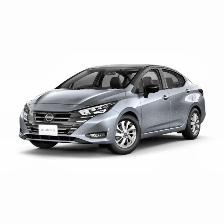NON-EV: (21, 64, 207, 156)
